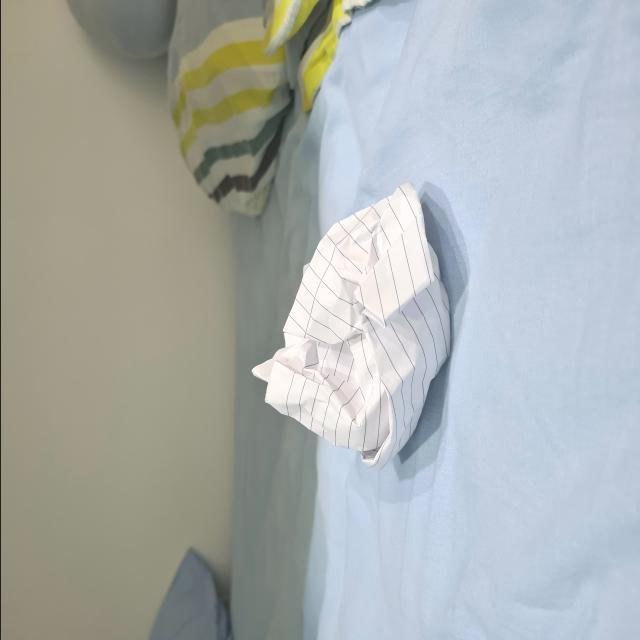Paper: (222, 182, 462, 470)
